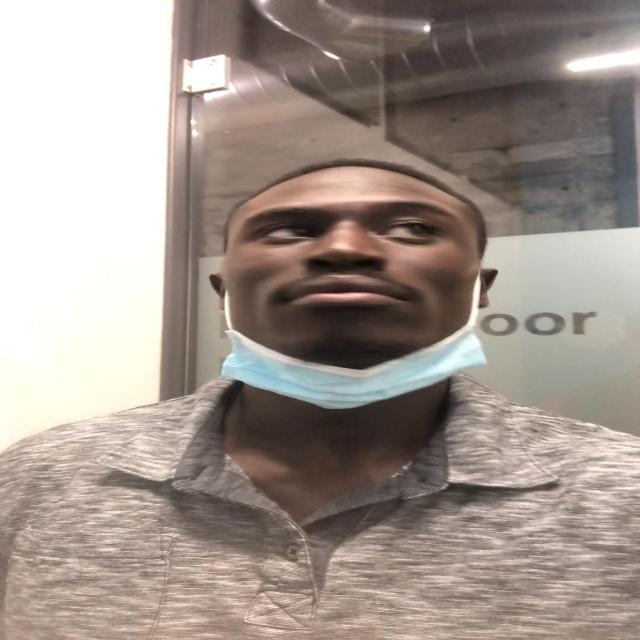face: (220, 183, 492, 362)
